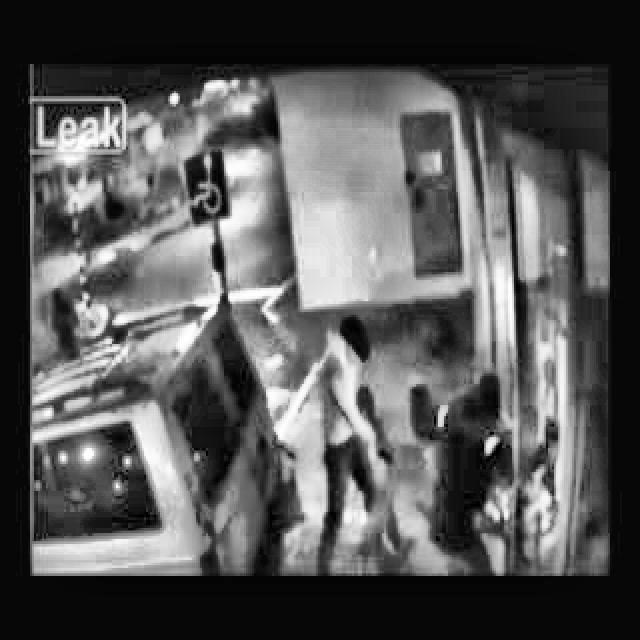Weapon: (284, 266, 532, 578)
